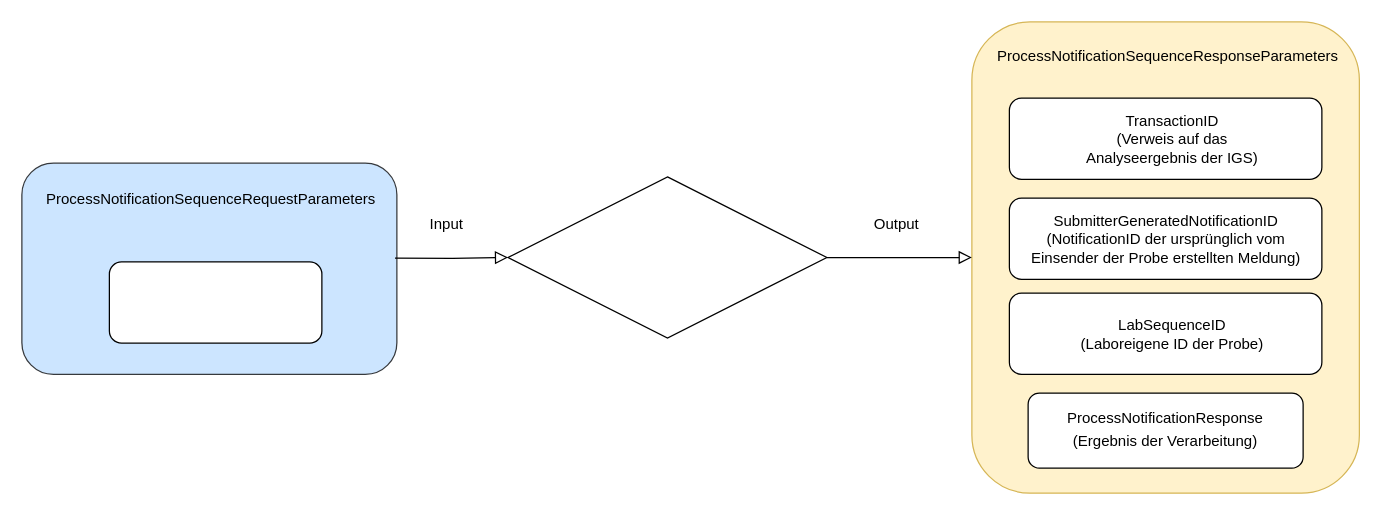
Some shapes in this 1381 by 515 pixel diagram are drawn without their labels. Each missing label, with the centre of its shape:
"NotificationBundleSequence" goes at point 215,302.
"ProcessNotificationSequence" goes at point 667,257.
